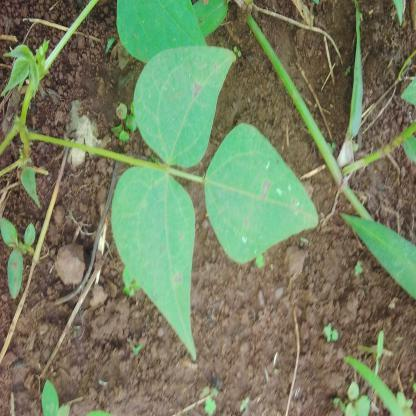Beans_Angular_LeafSpot: (201, 125, 323, 261), (114, 169, 195, 358), (137, 41, 225, 167)
